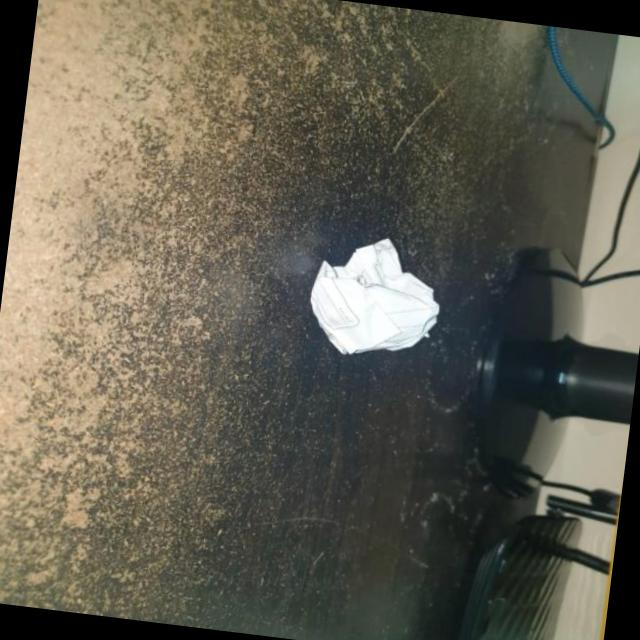cardboard paper: (311, 241, 439, 354)
